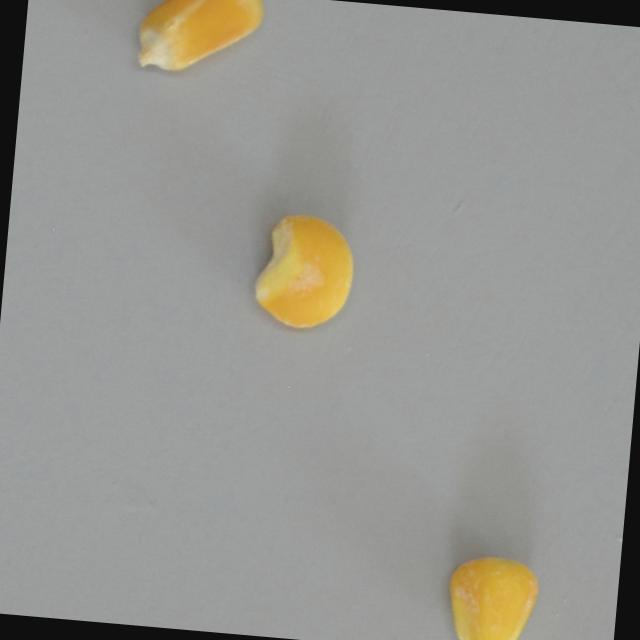entero: (129, 0, 269, 96)
pelicula: (247, 205, 363, 332), (441, 548, 544, 640)
